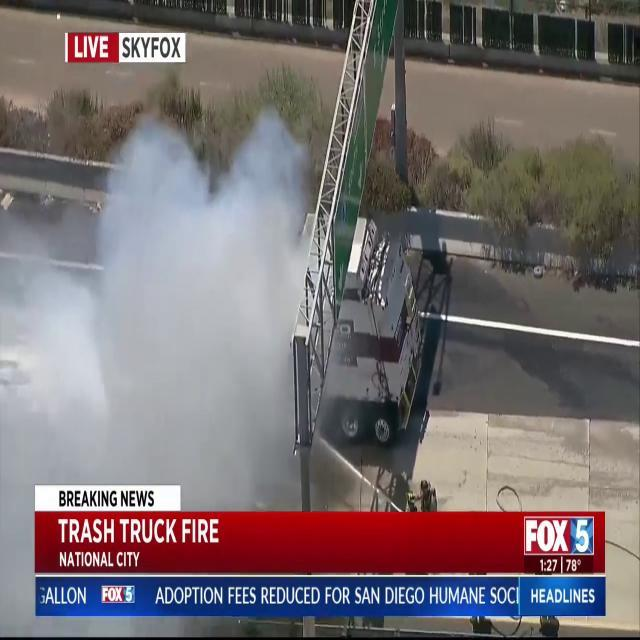Smoke: (54, 104, 310, 500)
